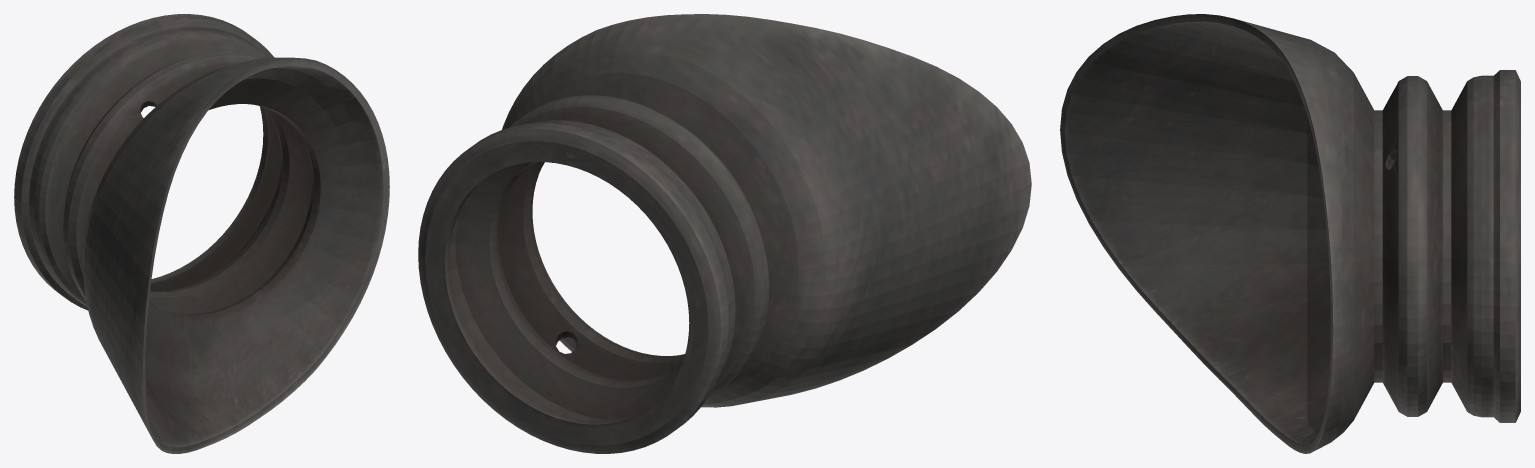
3 views of the same model, side by side, from view 1: azimuth 30°, elevation 25°; view 2: azimuth 150°, elevation 25°; view 3: azimuth 270°, elevation 25° (orthographic). The views are drawn at different scales.
Parts seen in each view (by area): view 1: TW_5a1eacb3fcdbcb09800872be_PZ_Import; view 2: TW_5a1eacb3fcdbcb09800872be_PZ_Import; view 3: TW_5a1eacb3fcdbcb09800872be_PZ_Import.
Part boxes in pixels (left/top/right/bottom): TW_5a1eacb3fcdbcb09800872be_PZ_Import: left=14, top=14, right=389, bottom=453; TW_5a1eacb3fcdbcb09800872be_PZ_Import: left=418, top=14, right=1031, bottom=453; TW_5a1eacb3fcdbcb09800872be_PZ_Import: left=1060, top=14, right=1520, bottom=453.
Size of the model in its own units: 0.0321 by 0.0314 by 0.0295.
Materials: 1 (1 with a texture image).
